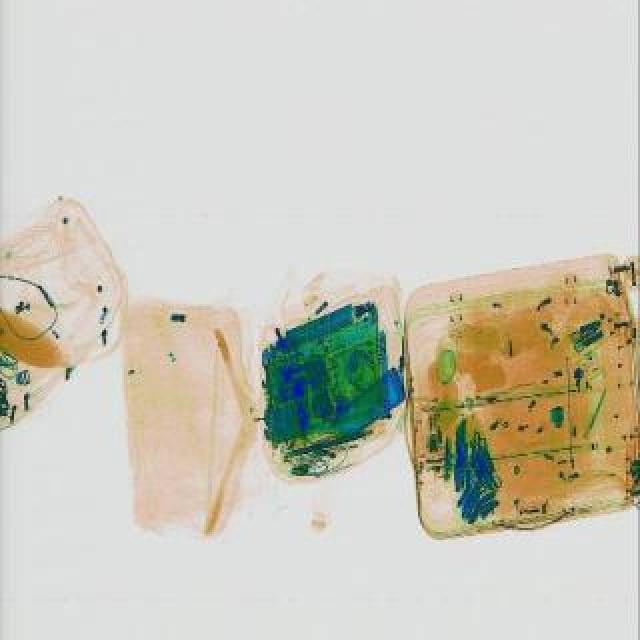pliers: (564, 316, 608, 352)
